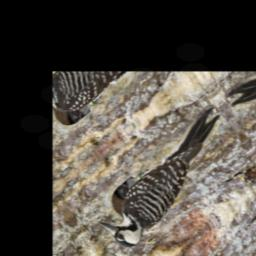Woodpecker: (86, 102, 248, 256)
